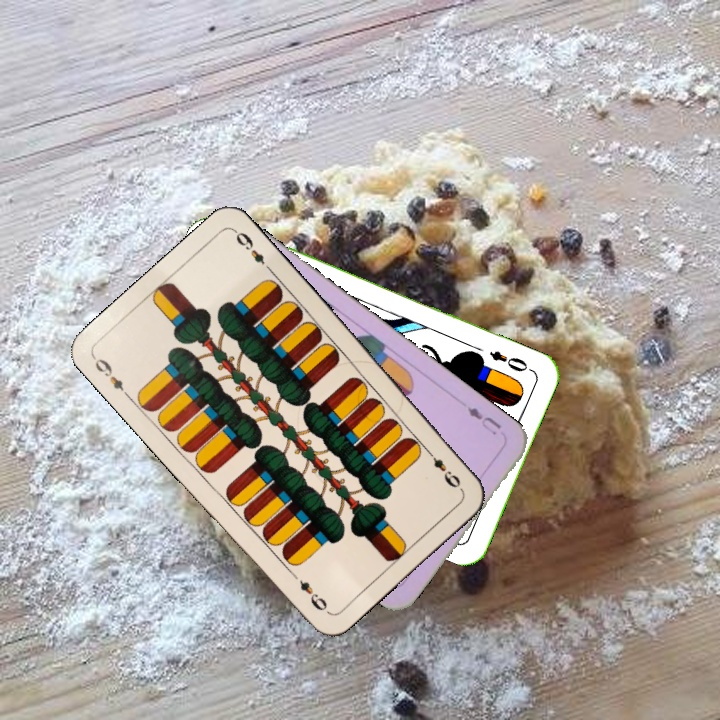E9: (89, 353, 133, 401), (421, 444, 464, 491)
EO: (485, 346, 535, 375)
EU: (462, 402, 504, 438)
